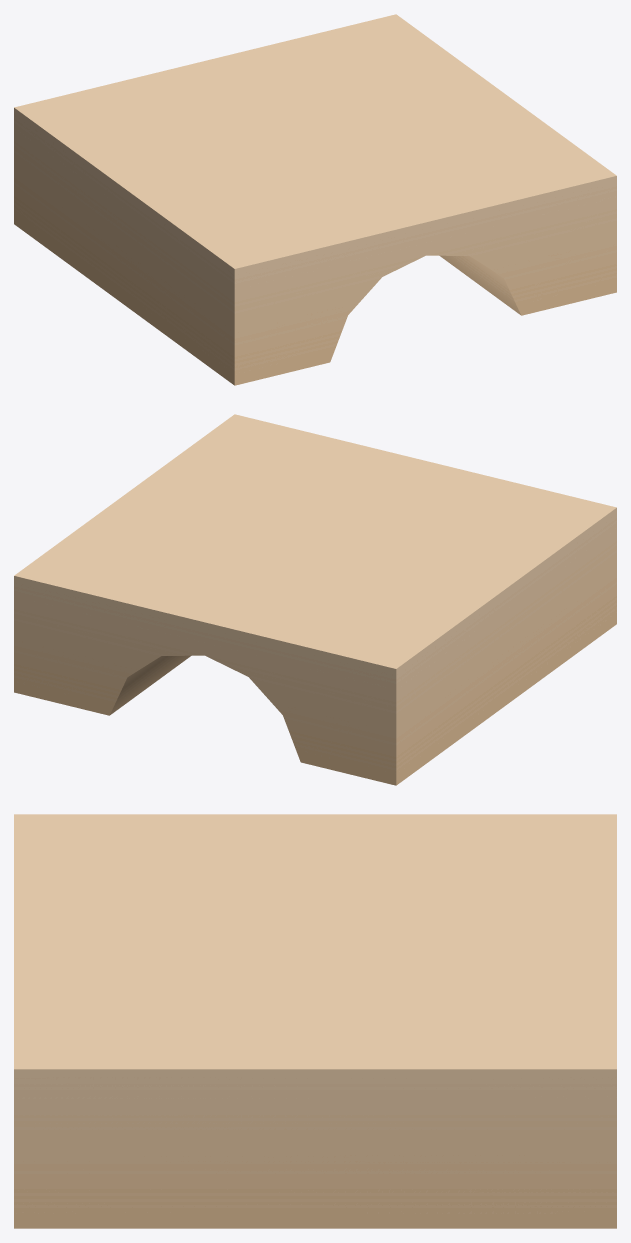
Rendered from structure-gate-wide.glb.
3 views of the same model, one above another, from view 1: azimuth 30°, elevation 25°; view 2: azimuth 150°, elevation 25°; view 3: azimuth 270°, elevation 25° (orthographic). The views are drawn at different scales.
Visible parts, largest first — view 1: structure-gate-wide; view 2: structure-gate-wide; view 3: structure-gate-wide.
Boxes of the visible parts, x1=… form: structure-gate-wide: x1=14, y1=14, x2=616, y2=385; structure-gate-wide: x1=14, y1=414, x2=616, y2=785; structure-gate-wide: x1=14, y1=814, x2=616, y2=1228.
Size of the model in its own units: 0.7999 by 0.2333 by 0.7999.
1 material, 1 textured.
